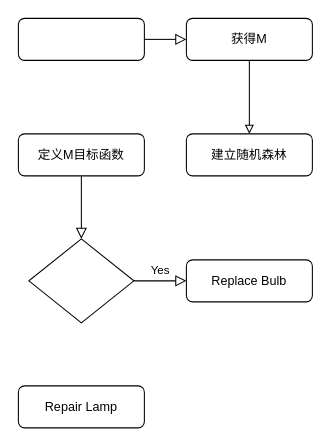
This 331x446 diagram has some shape labels left out. The centre of each missing label's shape, as x and y in pixels:
"准确" goes at pixel 81 280.
"有限元建模" goes at pixel 80 38.
